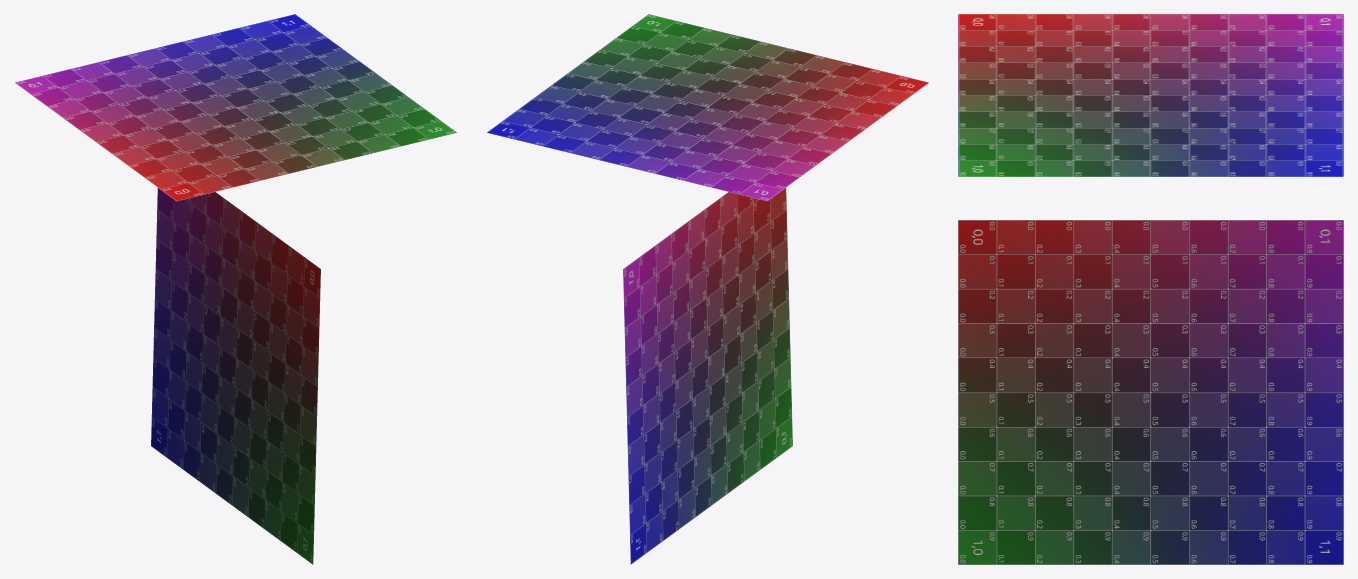
File: texture_direction.fbx
The picture shows the model from 3 angles, left to right: view 1: azimuth 30°, elevation 25°; view 2: azimuth 150°, elevation 25°; view 3: azimuth 270°, elevation 25°; orthographic projection. The views are drawn at different scales.
Visible parts, largest first — view 1: 平面, 平面.001; view 2: 平面, 平面.001; view 3: 平面, 平面.001.
Boxes of the visible parts, left/top/right/bottom form: 平面: left=151, top=188, right=320, bottom=564; 平面.001: left=14, top=14, right=457, bottom=201; 平面: left=623, top=188, right=792, bottom=564; 平面.001: left=486, top=14, right=929, bottom=201; 平面: left=958, top=220, right=1343, bottom=564; 平面.001: left=958, top=14, right=1343, bottom=176.
Bounding box in the file's own units: 200 × 270 × 200.
Materials: 2 (2 with a texture image).
